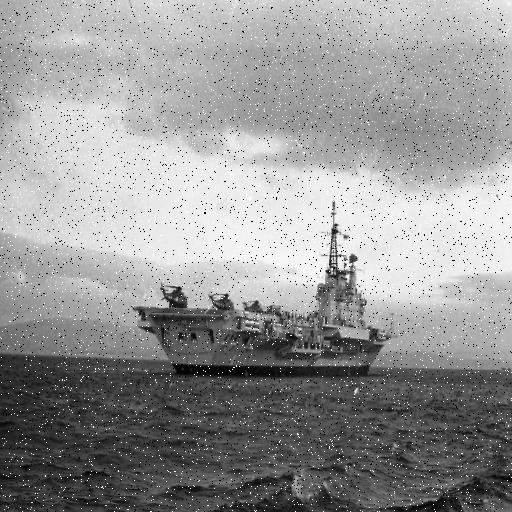Portanaves: (132, 198, 403, 378)
